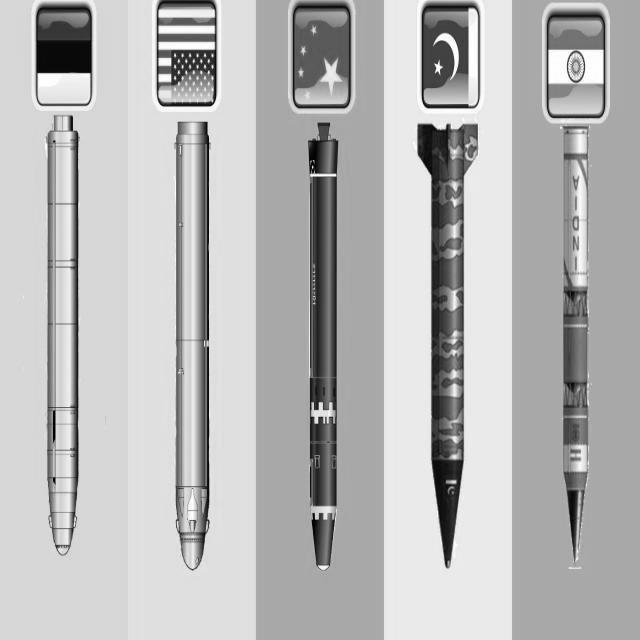Missile: (412, 115, 483, 577), (168, 105, 224, 579), (46, 102, 91, 567), (555, 123, 591, 569), (305, 117, 338, 583)
